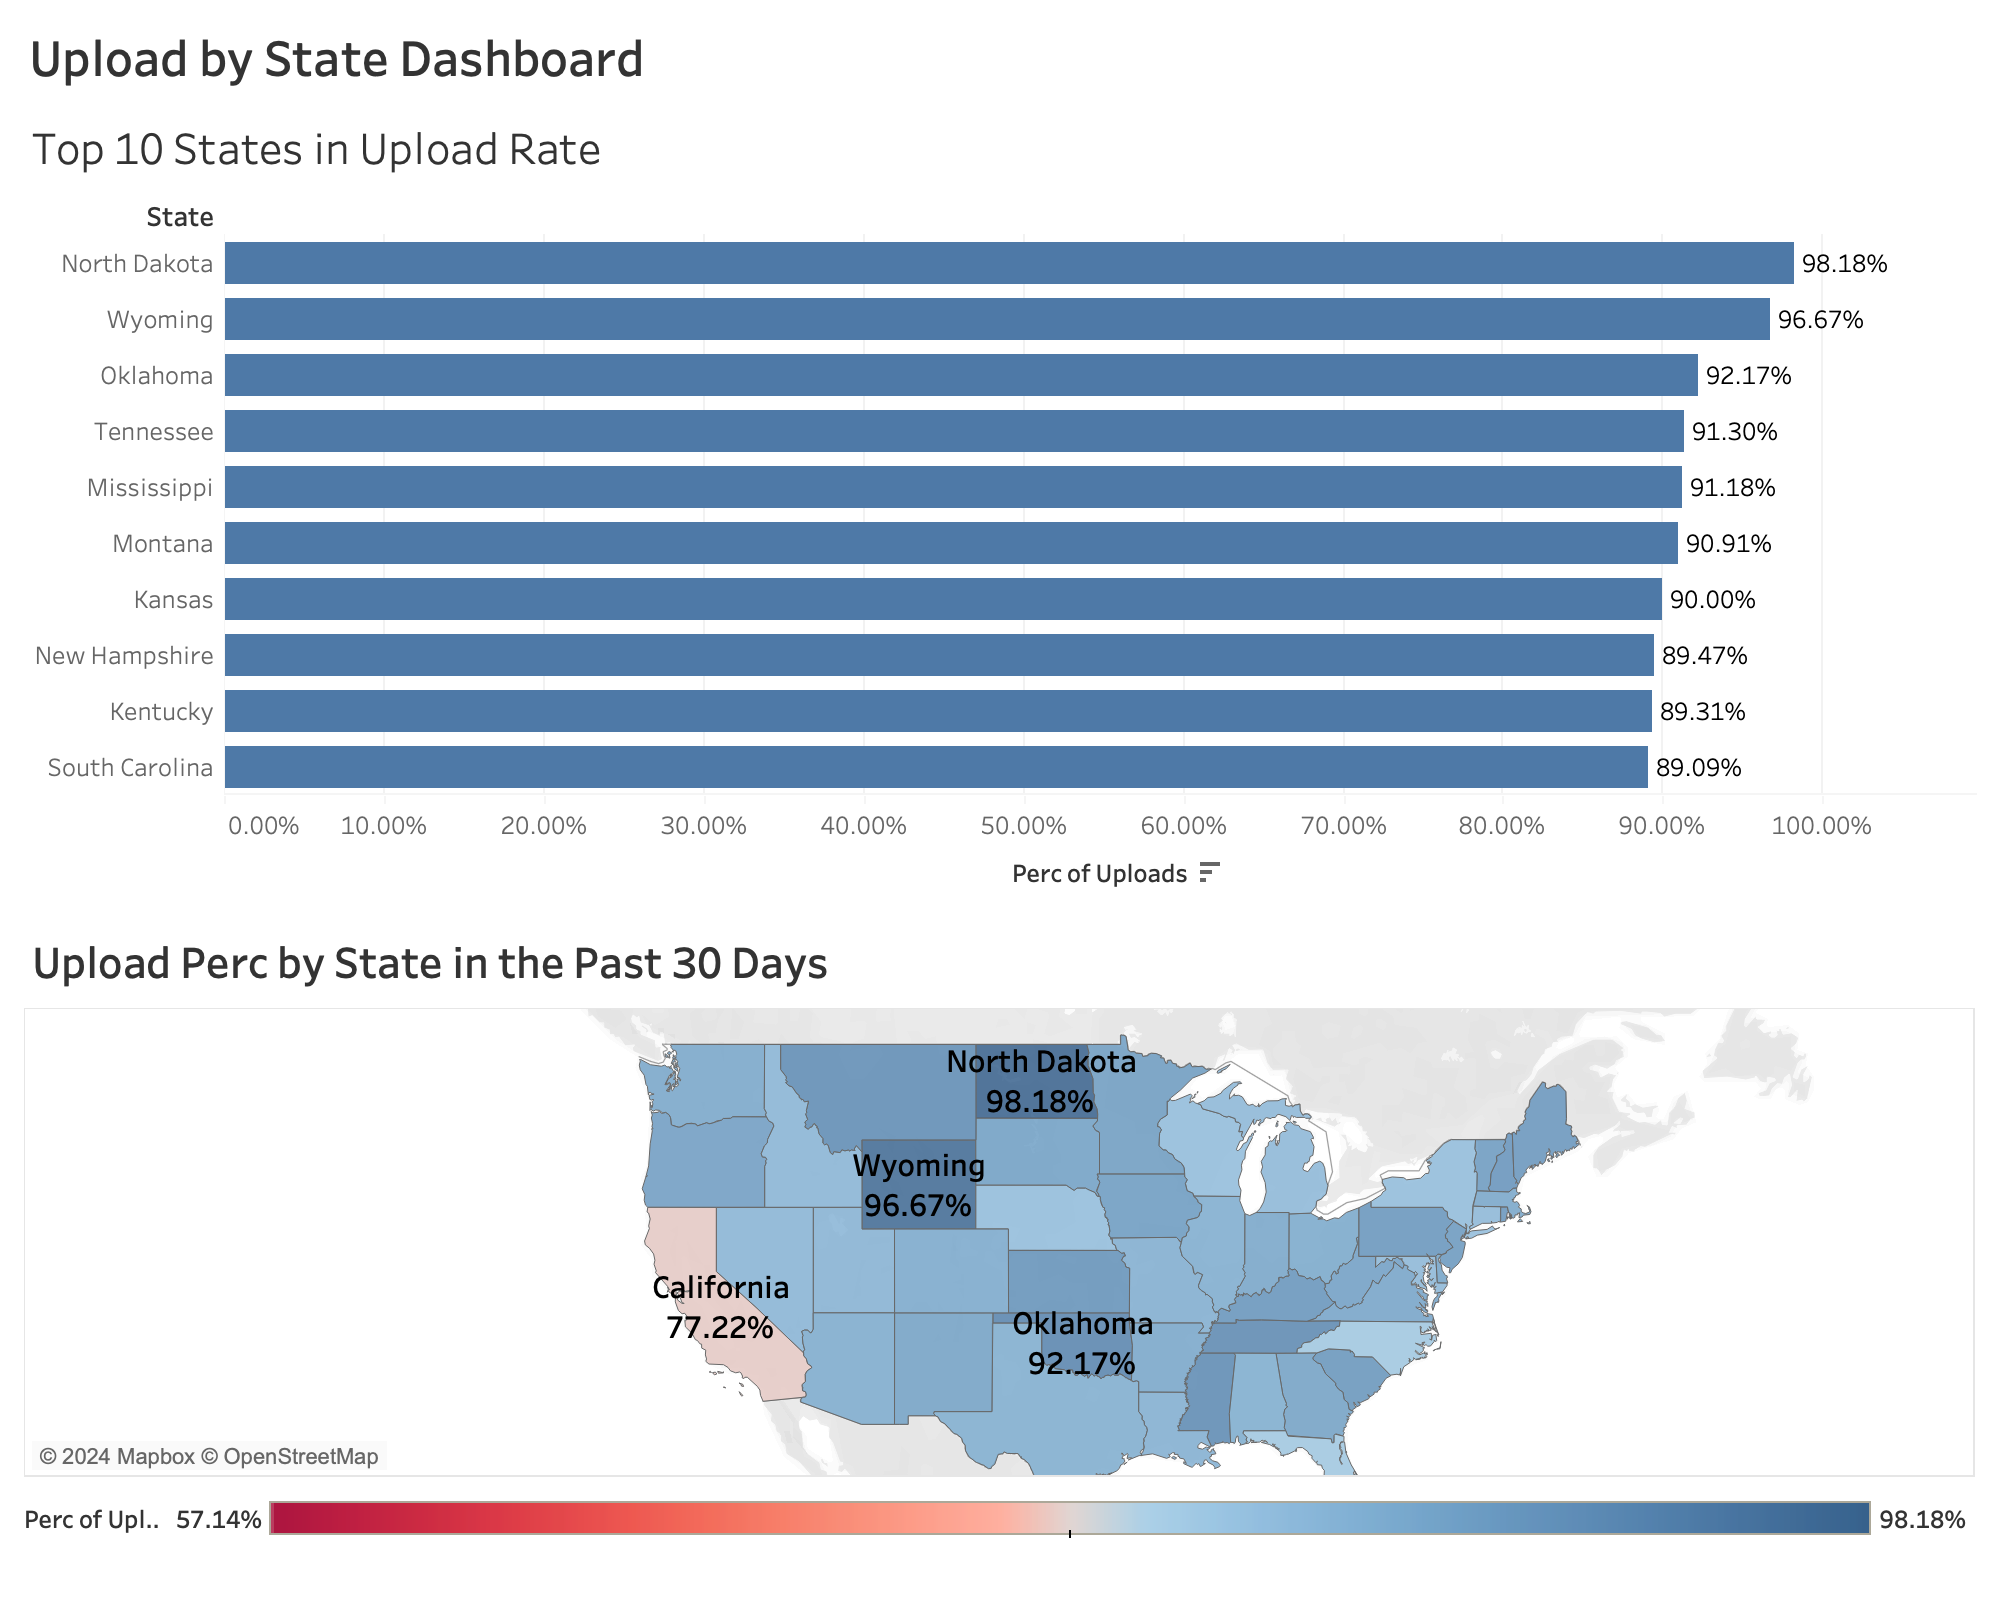

The page's visual inventory and layout, read from the dashboard file:
{"tool":"tableau","page":{"name":"Upload by State Dashboard","canvas":[1000,800],"ordinal":3},"visuals":[{"type":"title","box":[8,8,984,41]},{"type":"worksheet","title":"Top 10 States in Upload Rate","mark":"Automatic","rows":["state"],"cols":["perc"],"box":[8,49,984,406.5]},{"type":"worksheet","title":"Upload Perc by State in the Past 30 Days","mark":"Automatic","box":[8,455.5,984,287.2]},{"type":"legend","title":"Upload Perc by State in the Past 30 Days","param":"[federated.15yz8ii06bhk6l0zr1x4k1ljchux].[sum:perc:qk]","box":[8,742.7,984,49.3]}]}

Visuals, with their boxes in screenshot pixels (x1, y1, x2, y2), scaled from the page's 1000x800 canvas onto the 2000x1600 screenshot:
title: 16, 16, 1984, 98
"Top 10 States in Upload Rate" worksheet: 16, 98, 1984, 911
"Upload Perc by State in the Past 30 Days" worksheet: 16, 911, 1984, 1485
"Upload Perc by State in the Past 30 Days" legend: 16, 1485, 1984, 1584
